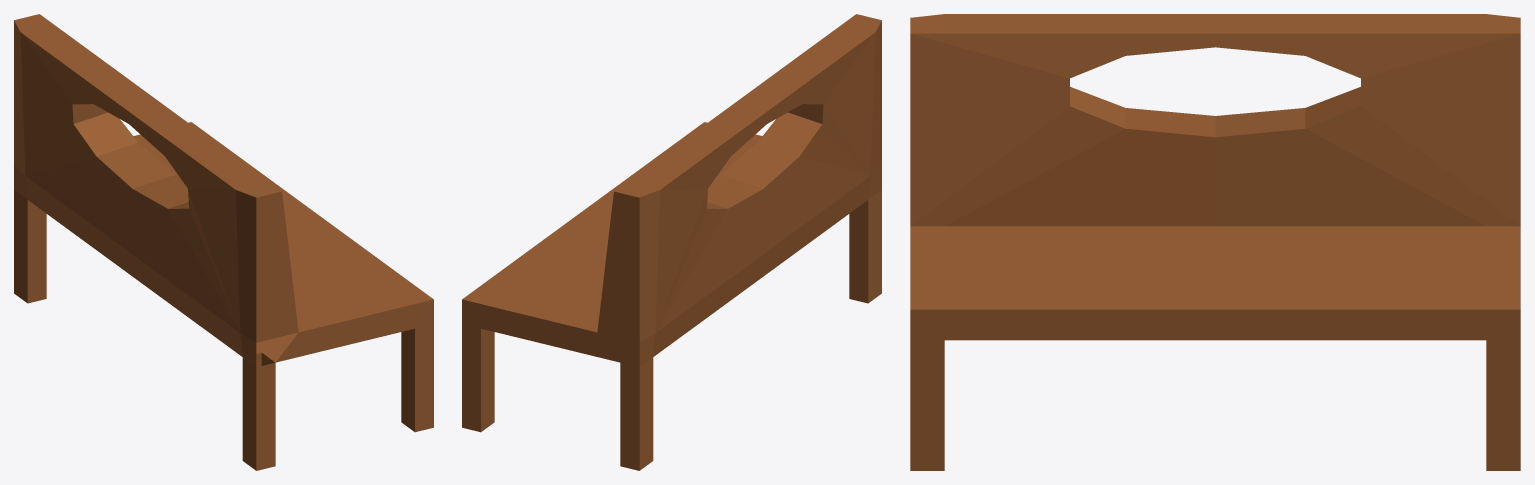
The model's file is Bench.fbx.
3 renders of one model, left to right at view 1: azimuth 30°, elevation 25°; view 2: azimuth 150°, elevation 25°; view 3: azimuth 270°, elevation 25°, orthographic. The views are drawn at different scales.
Visible parts, largest first — view 1: Plane.001; view 2: Plane.001; view 3: Plane.001.
Boxes of the visible parts, box(x1,y1,x2,y2) form: Plane.001: box(14, 14, 433, 470); Plane.001: box(462, 14, 881, 470); Plane.001: box(910, 14, 1520, 470).
Bounding box in the file's own units: 157 × 221 × 356.
